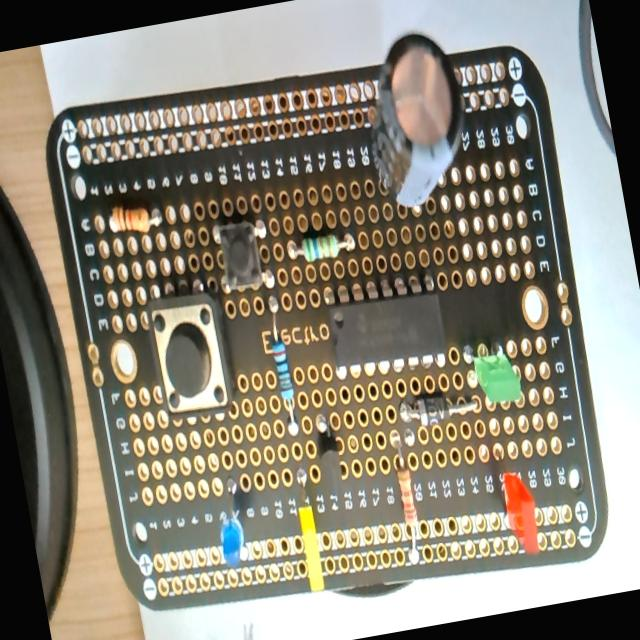Electrolytic capacitor: (338, 14, 492, 230)
IC: (324, 281, 448, 374)
diode: (286, 492, 330, 596), (396, 388, 484, 431)
led: (494, 462, 544, 558), (469, 336, 527, 410), (210, 477, 251, 568)
resistor: (388, 442, 426, 564), (266, 317, 302, 437), (288, 228, 356, 264), (106, 199, 164, 238)
switch: (146, 288, 237, 418), (215, 218, 265, 292)
transistor: (305, 413, 355, 502)
